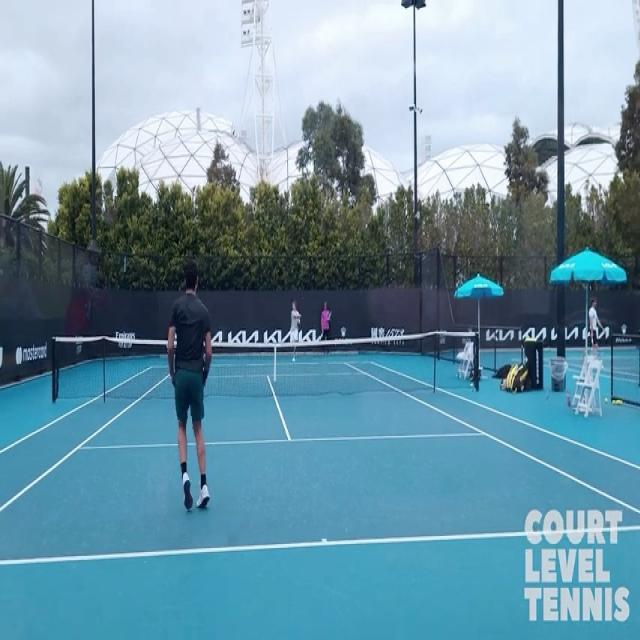ready-position: (162, 267, 215, 510)
